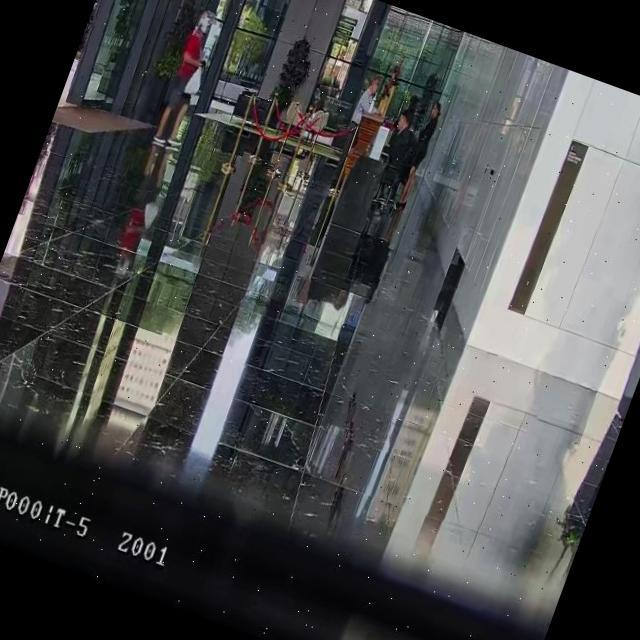person: (148, 8, 219, 148), (394, 100, 445, 208), (376, 93, 426, 183), (351, 72, 385, 127)
